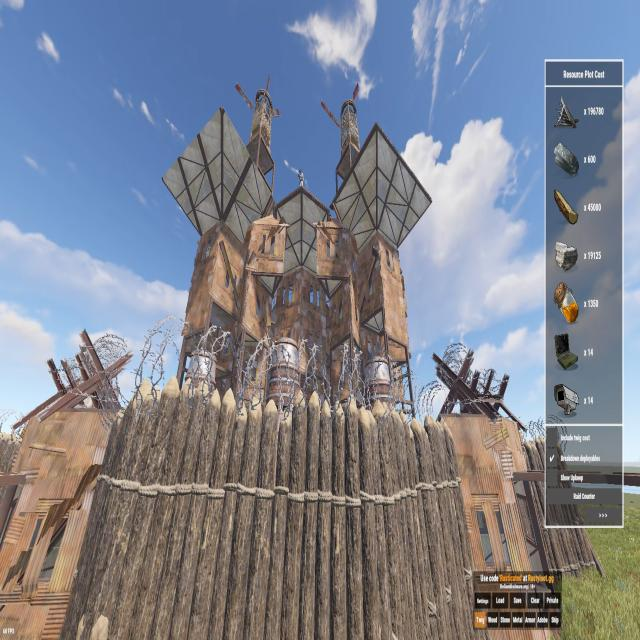Player: (297, 167, 305, 188)
